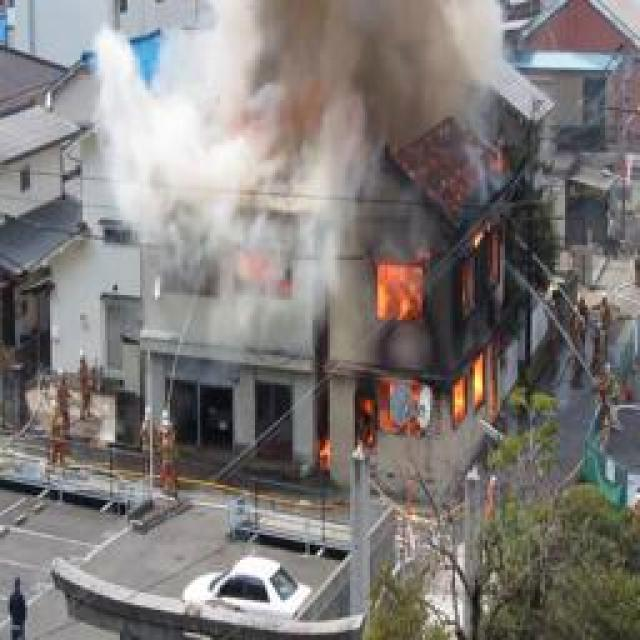Fire: (310, 203, 533, 486)
